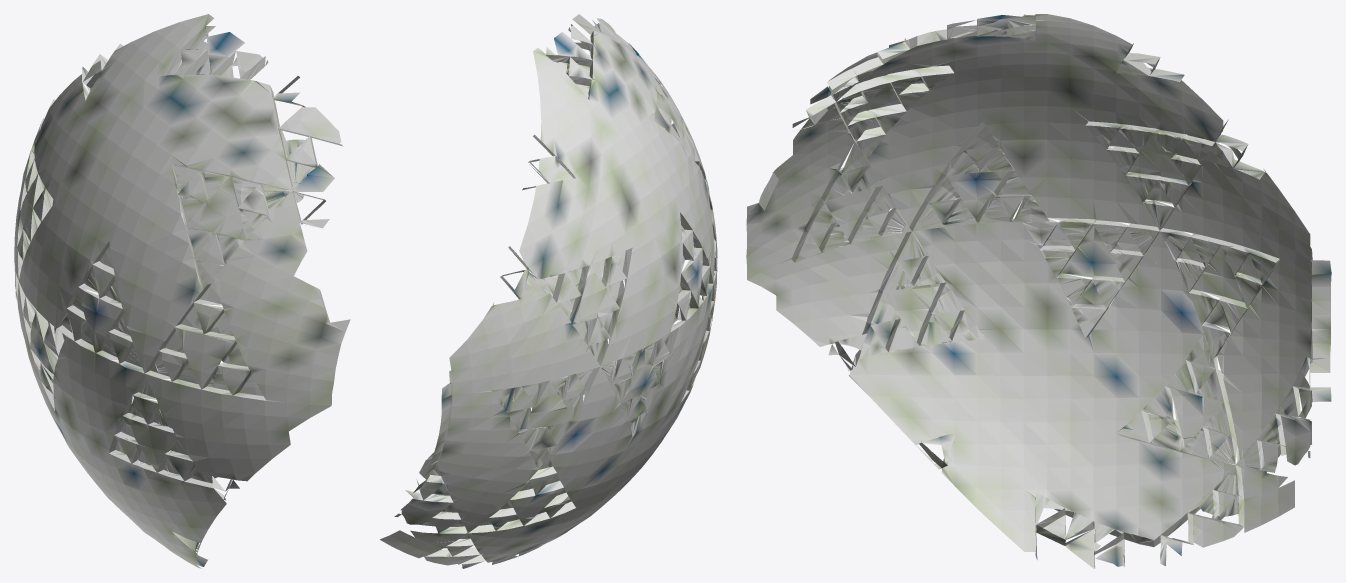
3 views of the same model, side by side, from view 1: azimuth 30°, elevation 25°; view 2: azimuth 150°, elevation 25°; view 3: azimuth 270°, elevation 25° (orthographic). The views are drawn at different scales.
Bounding box in the file's own units: 0.3174 × 0.829 × 0.7933.
